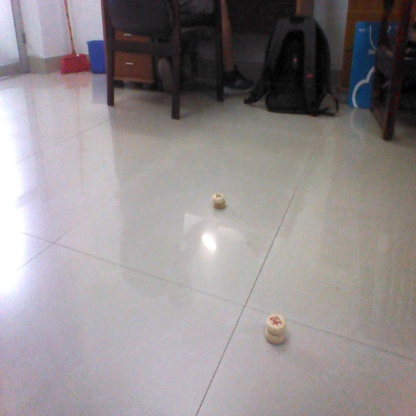chess: (264, 314, 289, 343), (208, 194, 227, 208)
